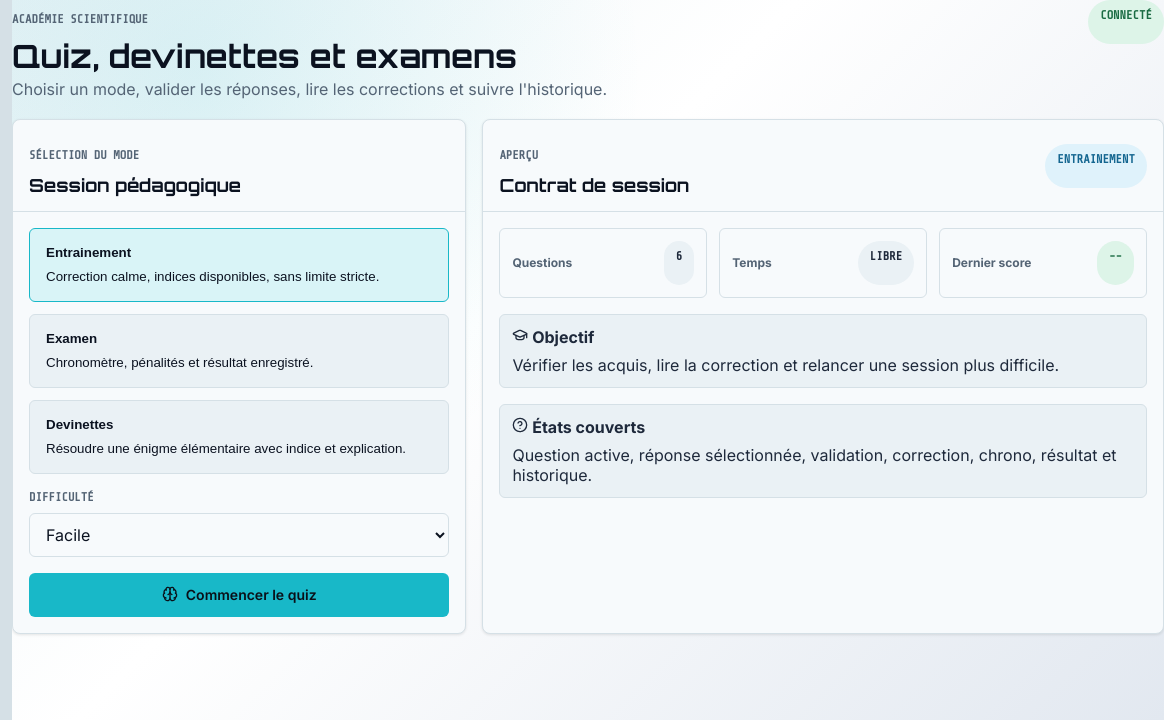
Test: QuizMode › starts a training session and validates an answer
Click the button "Commencer le quiz".
click(239, 595)  # box x1=29 y1=573 x2=449 y2=617
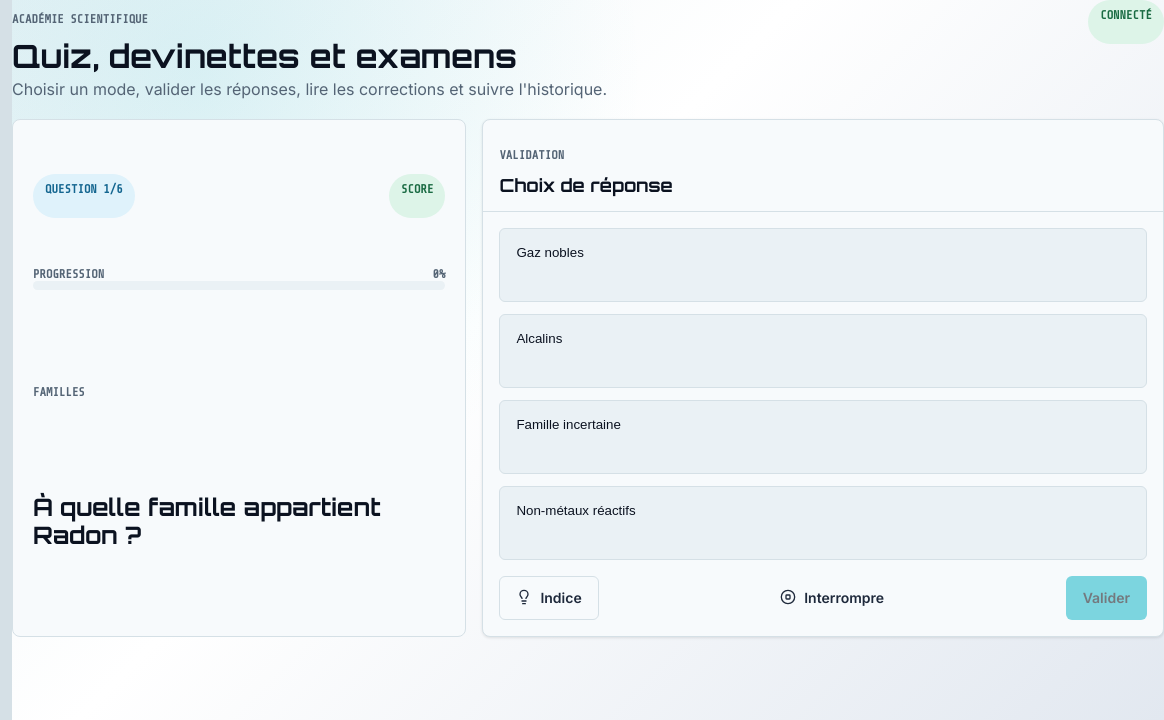
Check: the text "Question 1/6" is shown, box x1=33 y1=174 x2=135 y2=218
Click the button "Gaz nobles".
click(550, 253)  # box x1=499 y1=228 x2=1147 y2=302
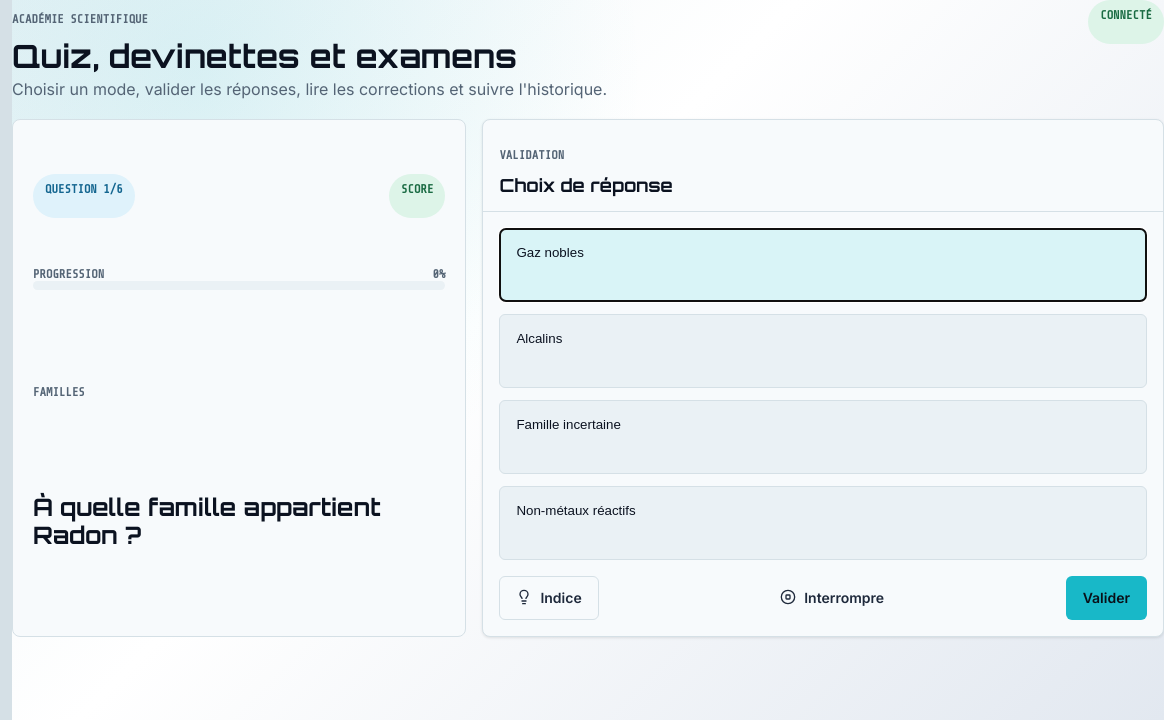
Click the button "Valider".
click(1106, 598)  # box x1=1066 y1=576 x2=1147 y2=620
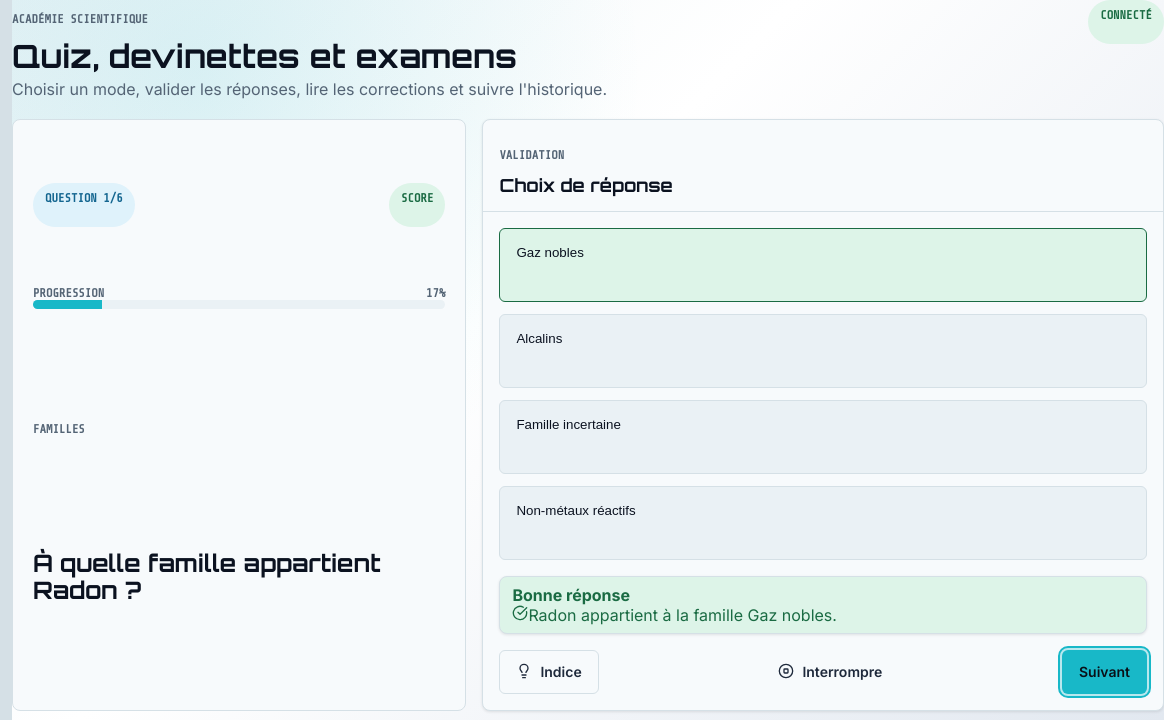
Check: the text "Bonne réponse" is shown, box x1=512 y1=585 x2=630 y2=605
Check: the button "Suivant" is shown, box x1=1062 y1=650 x2=1147 y2=694
